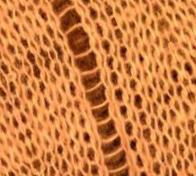slub: (49, 0, 133, 176)
